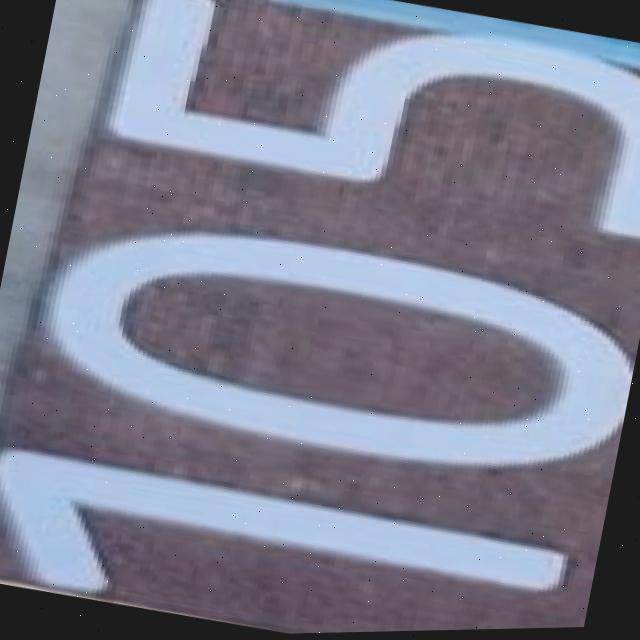character: (12, 179, 640, 517), (84, 0, 640, 266), (0, 426, 596, 640)
